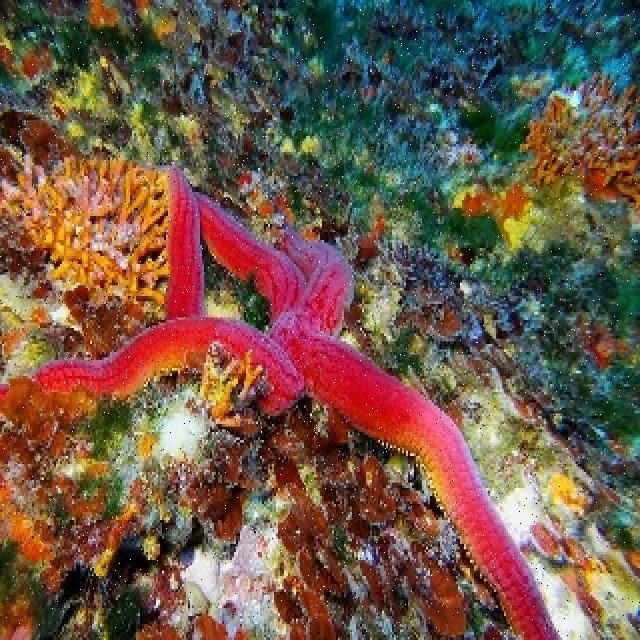fish: (488, 181, 526, 215), (532, 524, 563, 556), (463, 189, 487, 217), (561, 534, 582, 565)
reefs: (2, 163, 564, 637), (0, 152, 171, 306), (196, 344, 263, 431)
